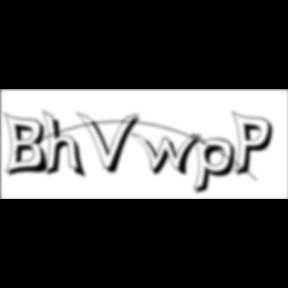B: (4, 111, 54, 179)
P: (232, 110, 280, 180)
V: (78, 110, 144, 176)
h: (42, 108, 90, 182)
p: (192, 132, 242, 198)
w: (130, 132, 208, 178)
